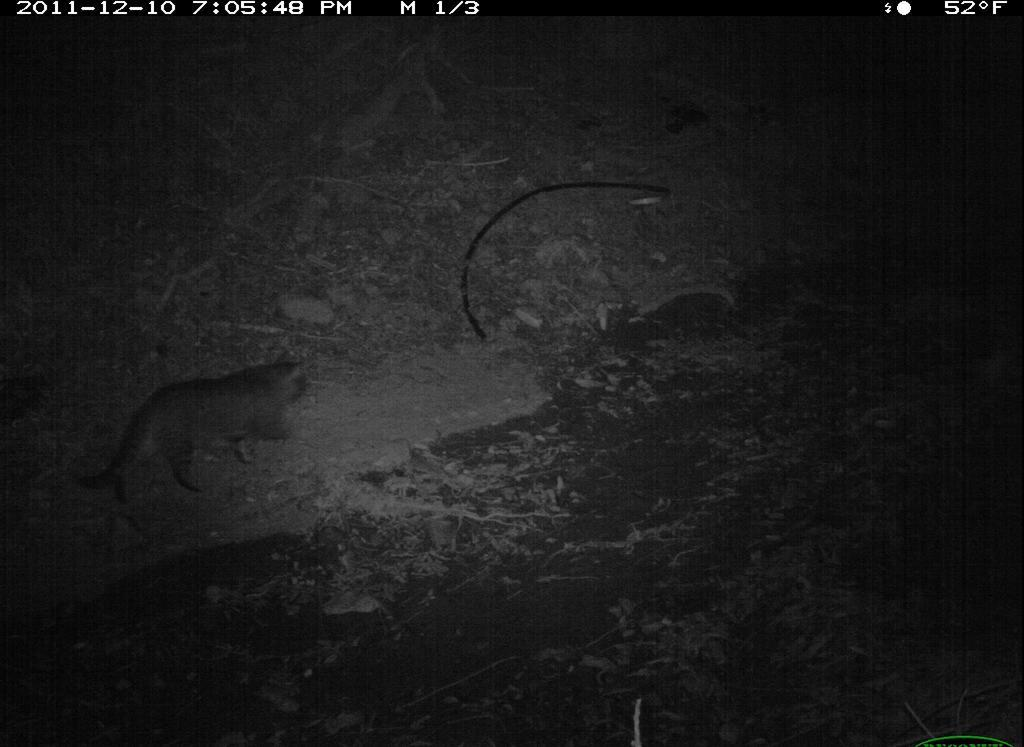cat: (66, 341, 336, 524)
